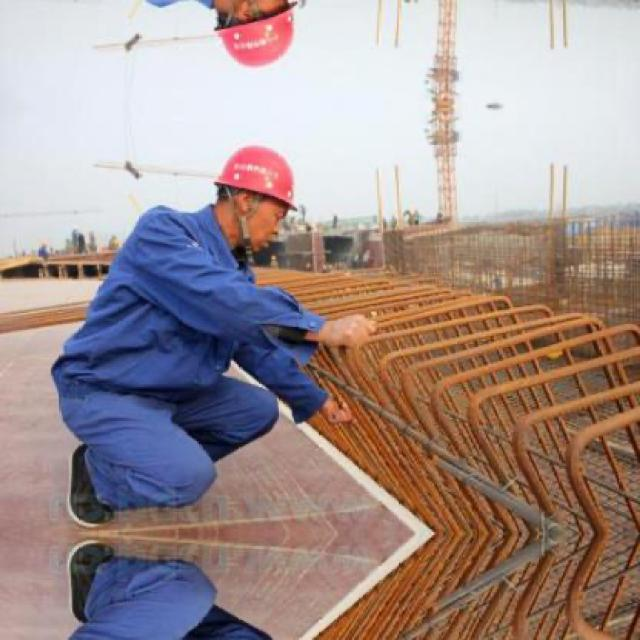con casco: (189, 163, 341, 252)
